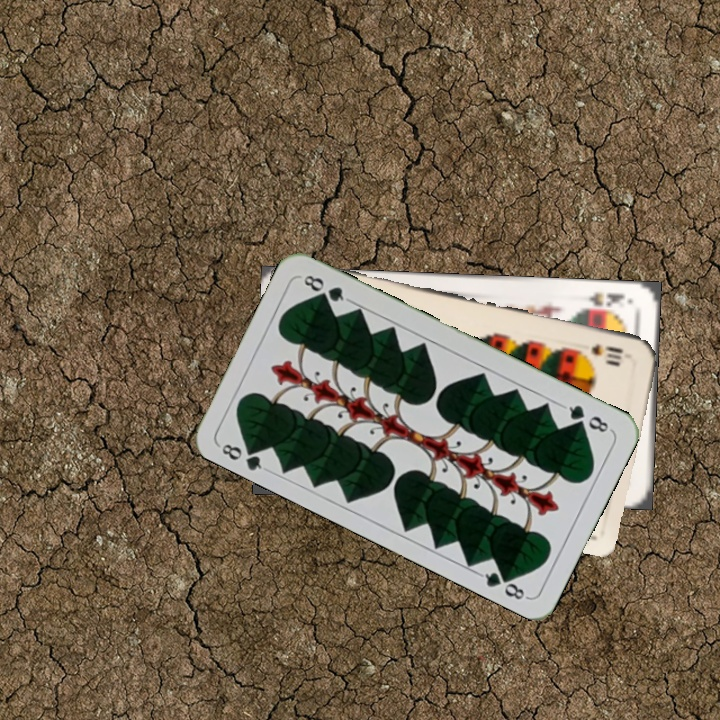G8: (215, 438, 269, 474), (559, 401, 614, 435)
S10: (587, 340, 625, 363)
SK: (577, 289, 634, 314)
